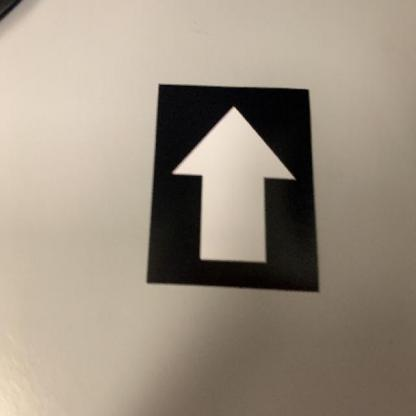up: (142, 79, 322, 297)
